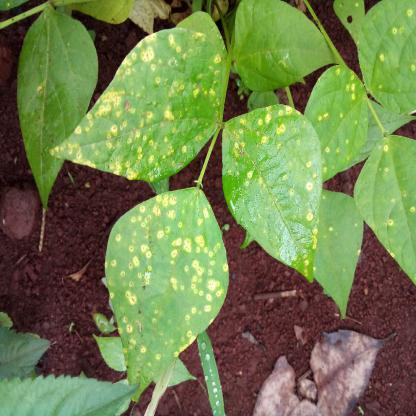Beans_Rust: (48, 26, 226, 180), (104, 188, 227, 402), (221, 104, 322, 284), (355, 131, 416, 284), (304, 64, 369, 186), (312, 189, 365, 323), (361, 1, 416, 116)
